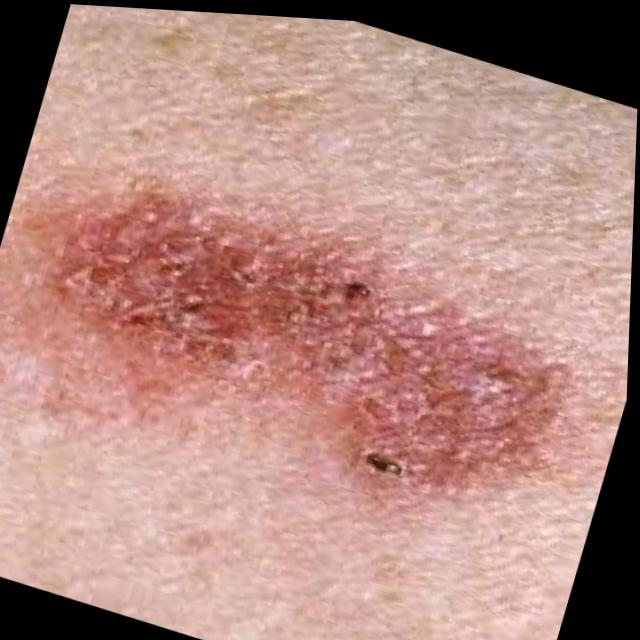Eczema: (22, 159, 565, 520)
